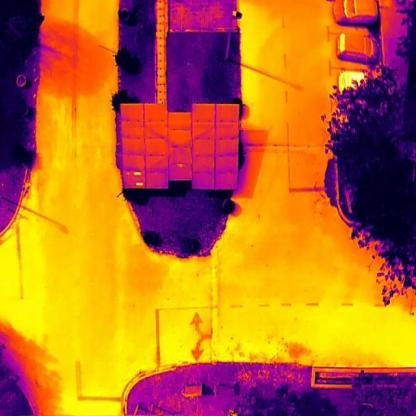anomaly: (134, 182, 144, 187), (133, 171, 142, 176)
